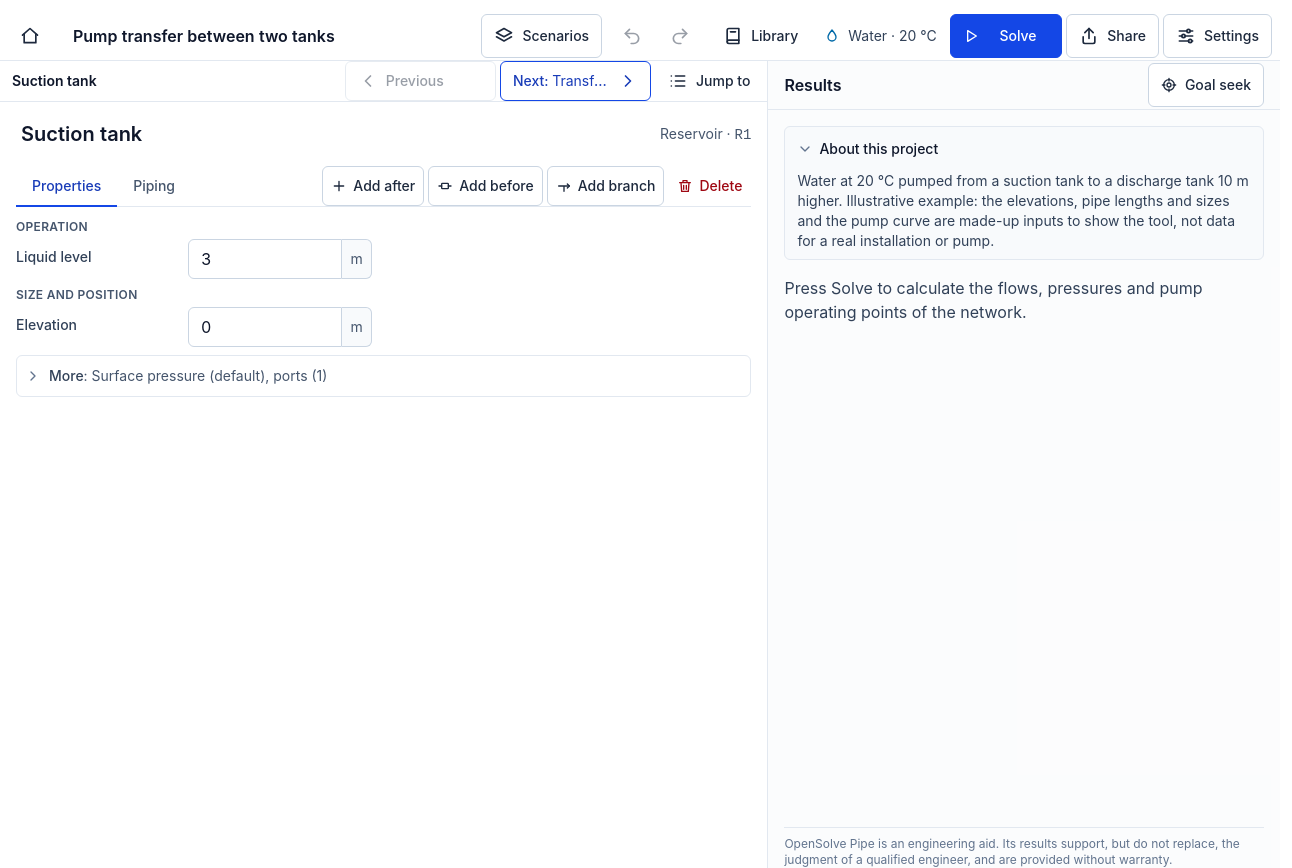
it: trace side panel (wide screens) › says a solve that did not converge is not a solution, with the network-wide flag
This screenshot has width=1292, height=868.
Click the button "Solve". click: (1006, 36)
box: [950, 14, 1062, 58]
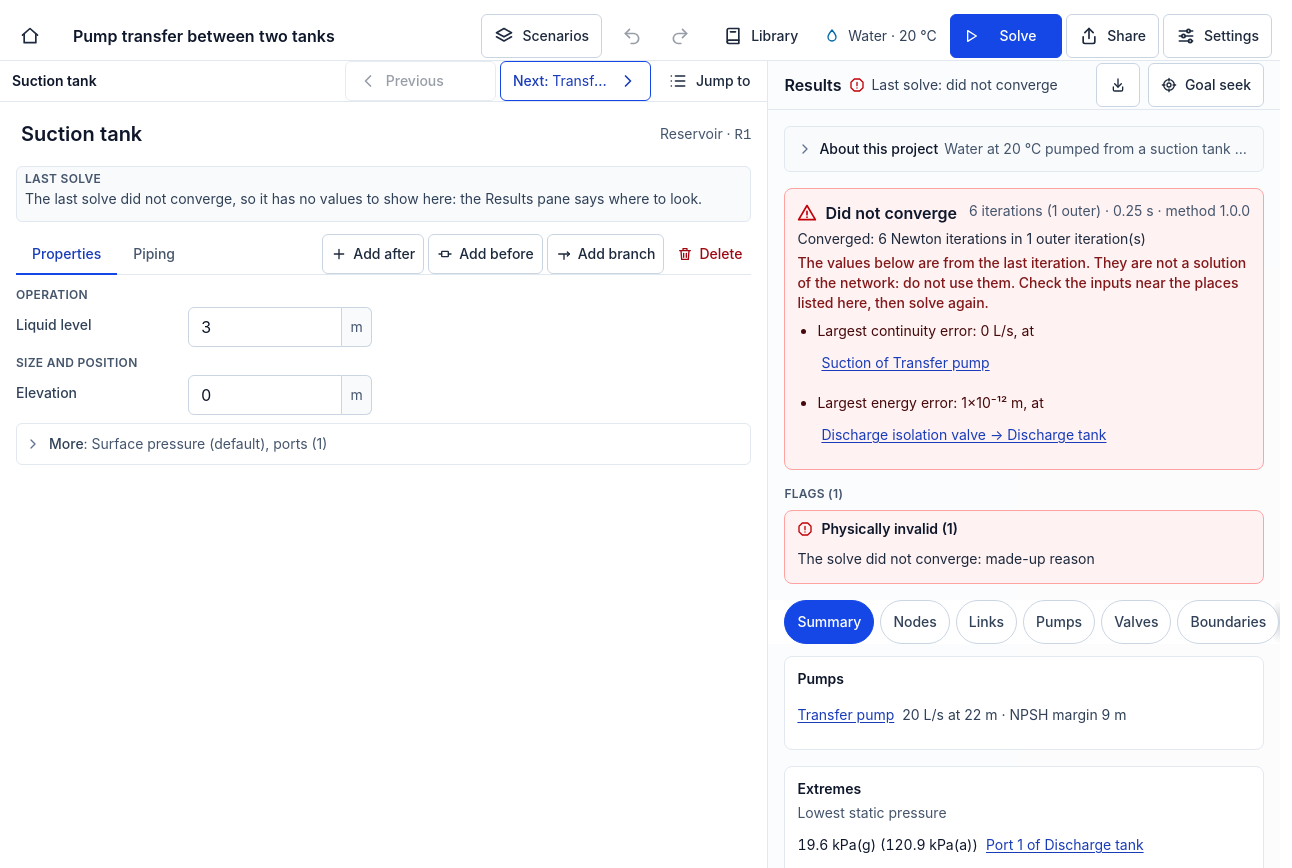
Click the tab "Pumps". click: (1059, 622)
box: [1023, 600, 1095, 644]
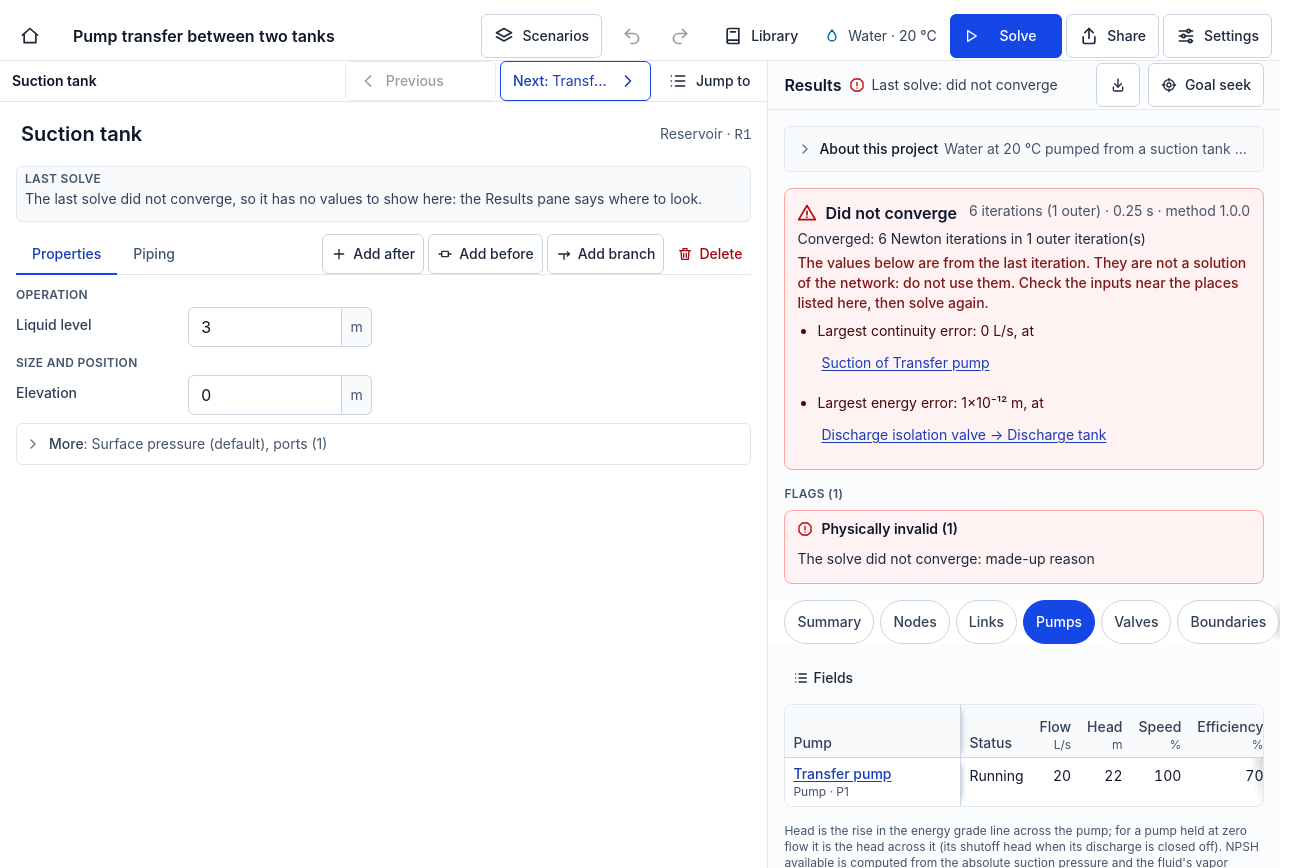
Click the button "Transfer pump Pump · P1". click: (873, 782)
box: [789, 760, 956, 804]
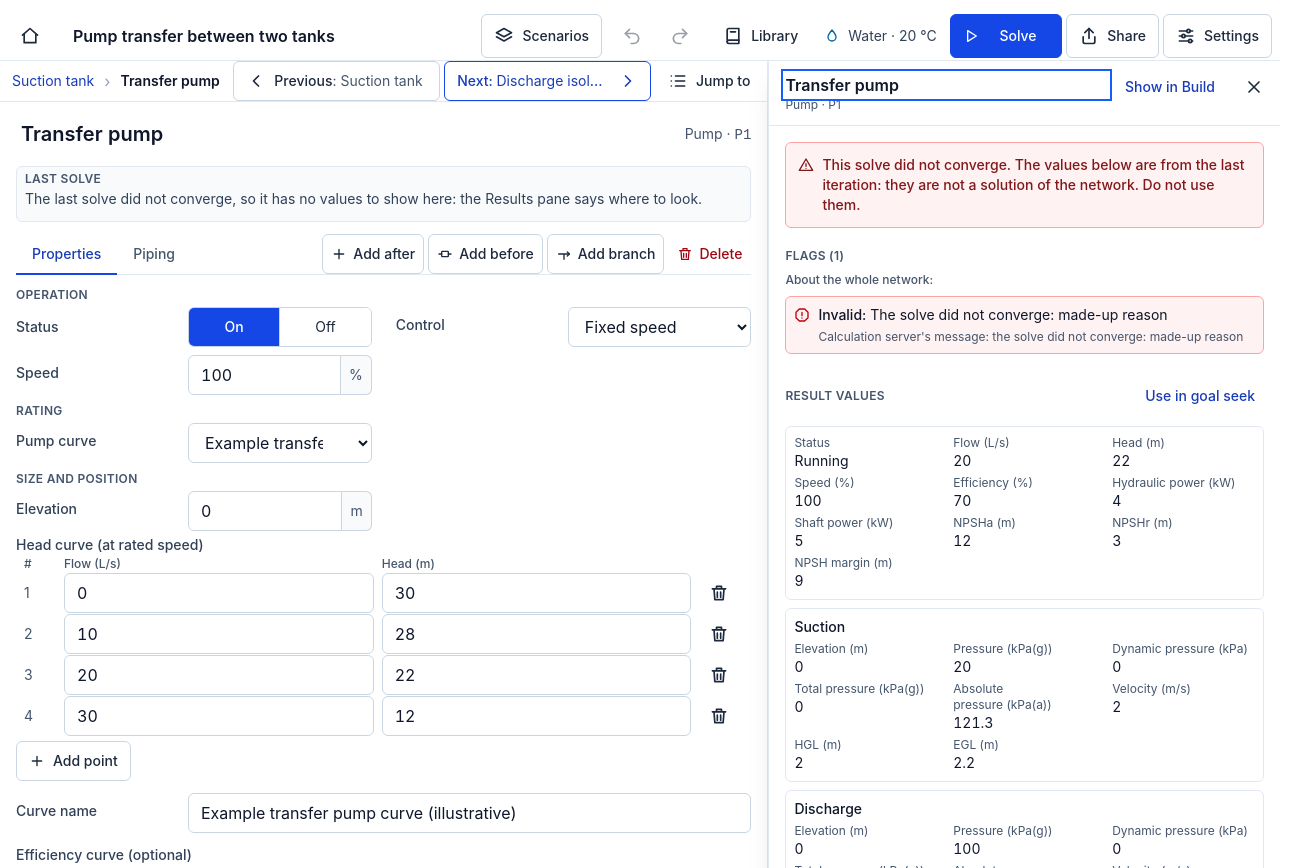
Expected: the element "Transfer pump" shows "This solve did not converge", [822, 156, 1245, 213]
Expected: the element "Transfer pump" shows "not a solution of the network. Do not use them.", [822, 156, 1245, 213]
Expected: the text "About the whole network:" is shown, [785, 272, 933, 287]
